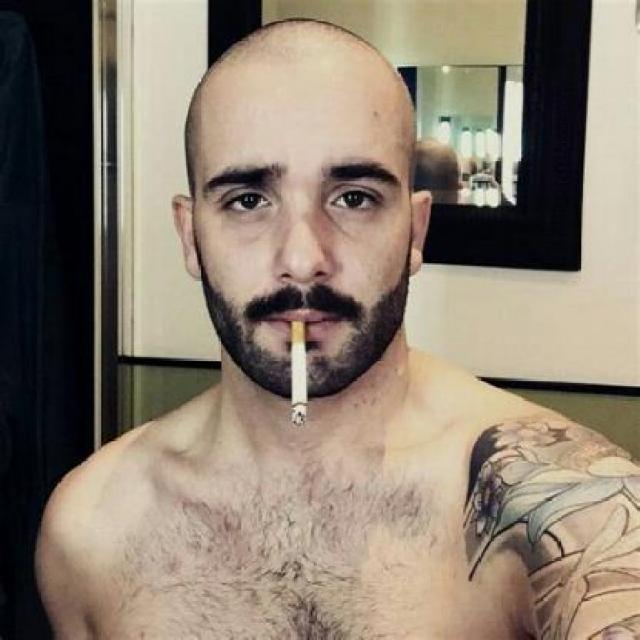cigarette: (278, 306, 317, 437)
